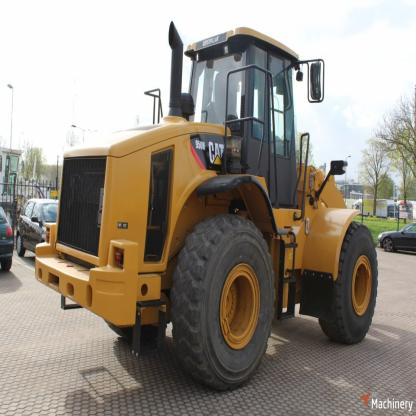bull_dozer/loader/grader: (32, 13, 392, 416)
